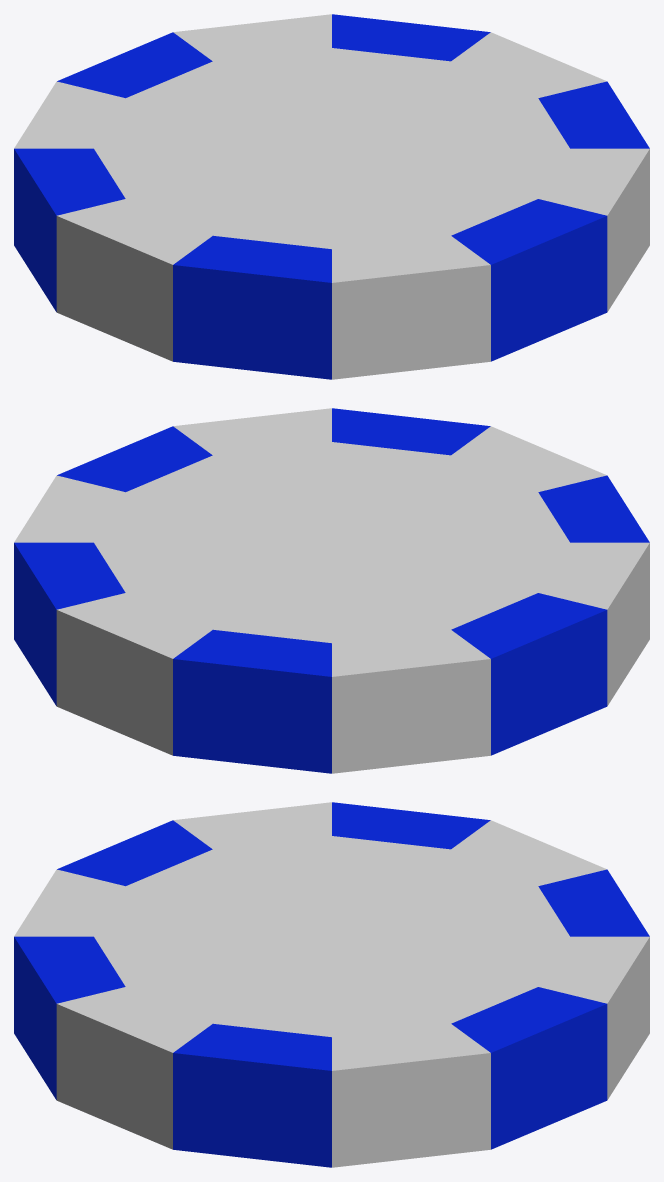
File: ChouMa.fbx
3 views of the same model, one above another, from view 1: azimuth 30°, elevation 25°; view 2: azimuth 150°, elevation 25°; view 3: azimuth 270°, elevation 25° (orthographic).
Visible parts, largest first — view 1: 柱体; view 2: 柱体; view 3: 柱体.
Part boxes in pixels (x1,y1,x2,y2): 柱体: [14, 14, 649, 379]; 柱体: [14, 408, 649, 773]; 柱体: [14, 802, 649, 1167].
Bounding box in the file's own units: 200 × 33.59 × 200.
